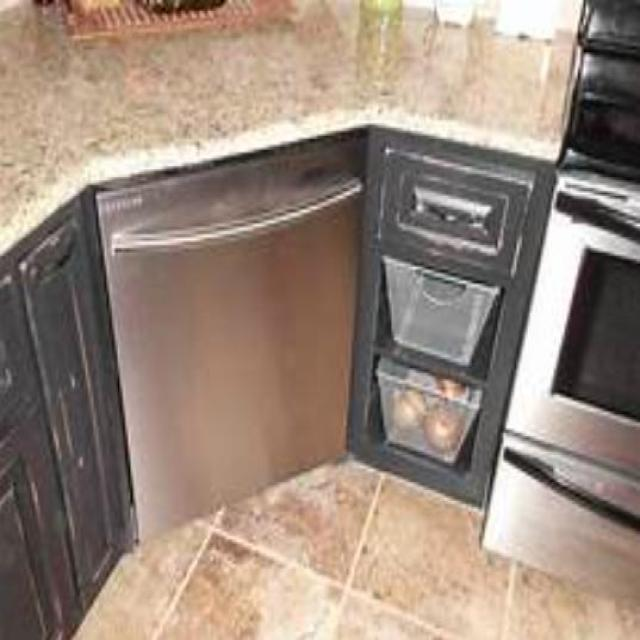dishwasher: (94, 129, 365, 539)
